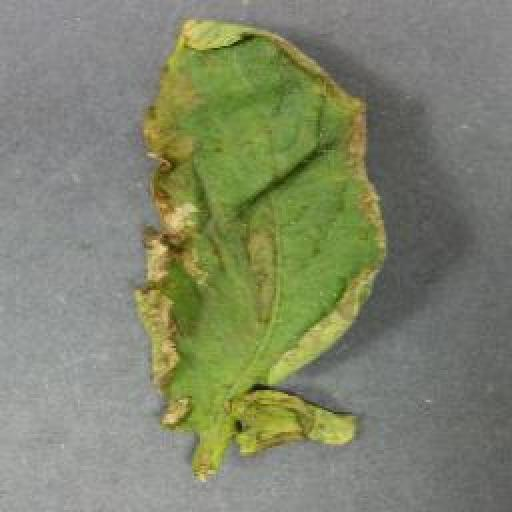Bacterial Spot: (122, 10, 404, 493)
